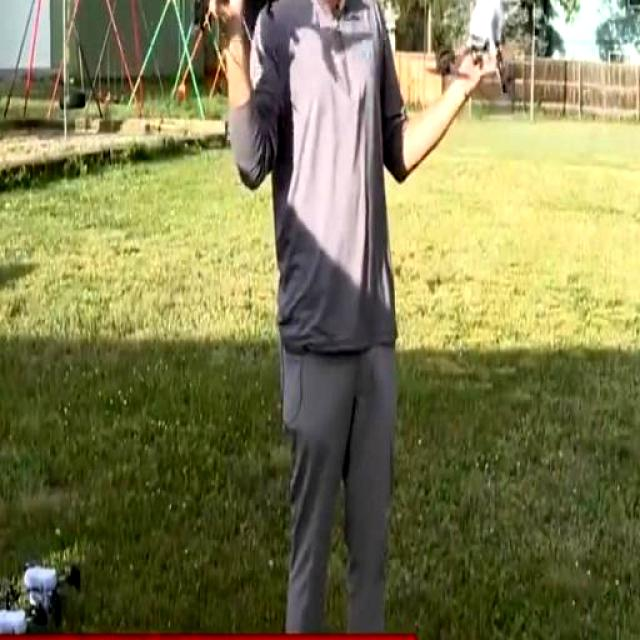bird: (435, 0, 561, 100), (8, 528, 90, 625)
